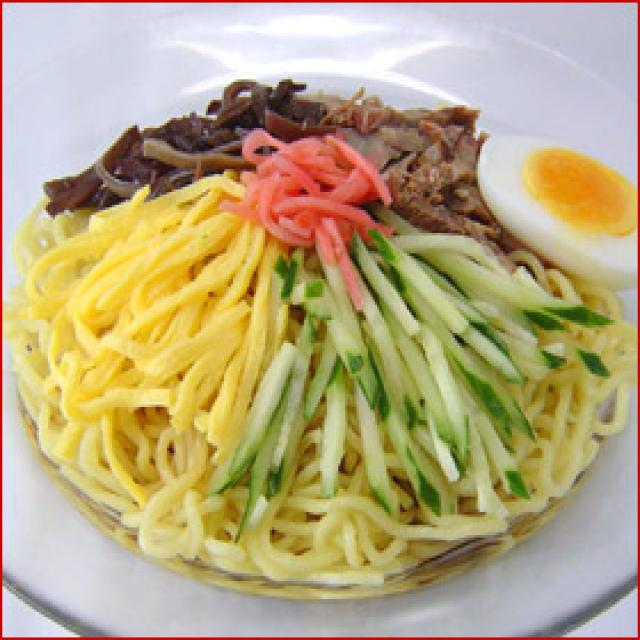面条主食: (11, 44, 608, 596)
